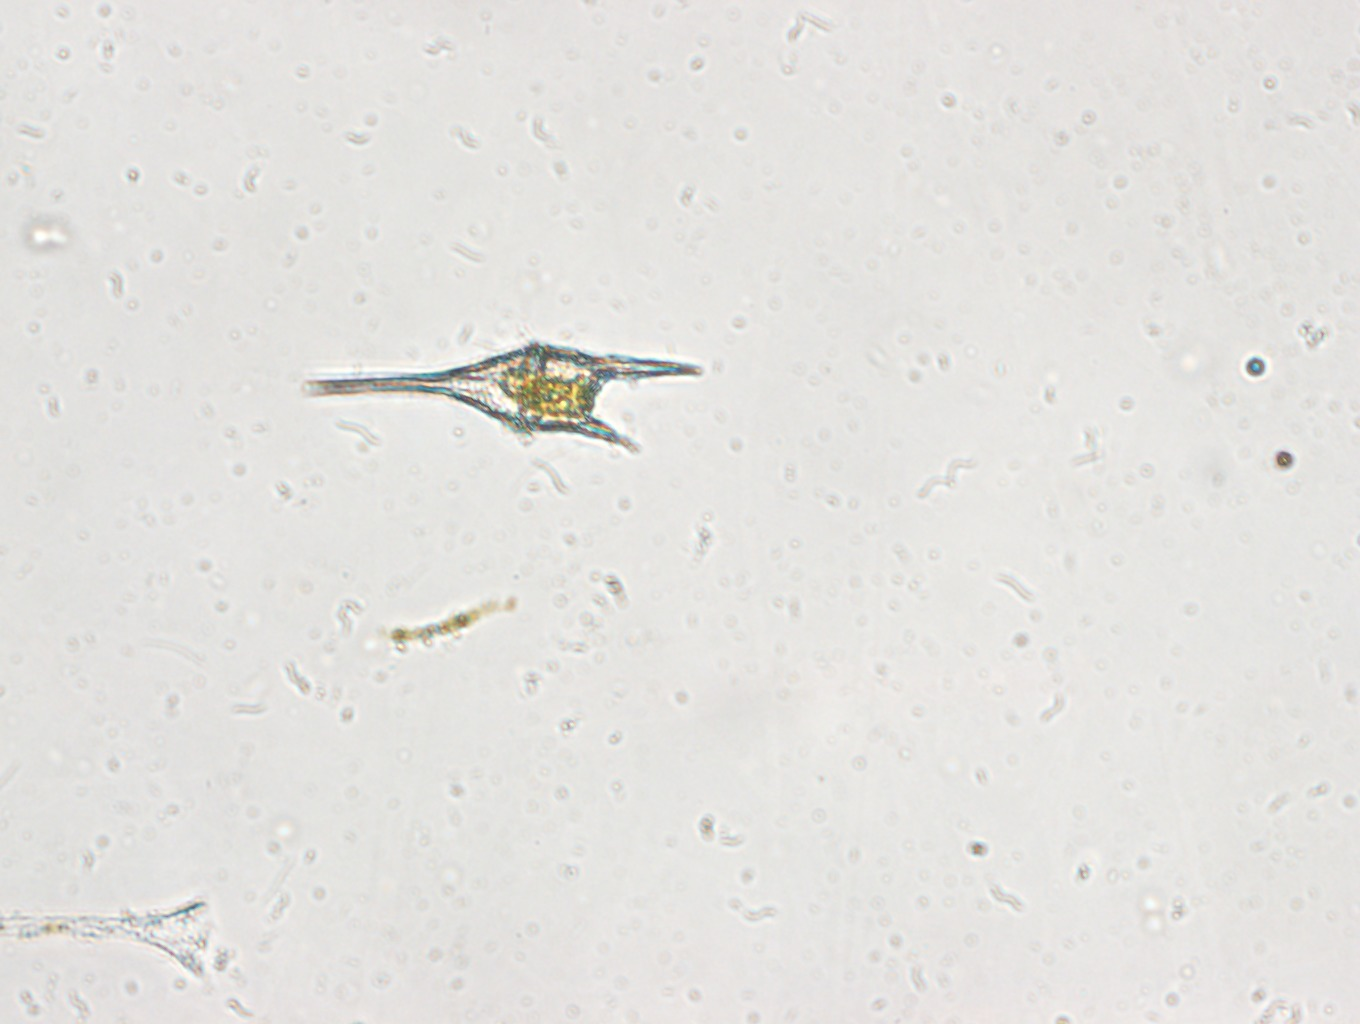ceratium furca: (302, 329, 705, 455)
